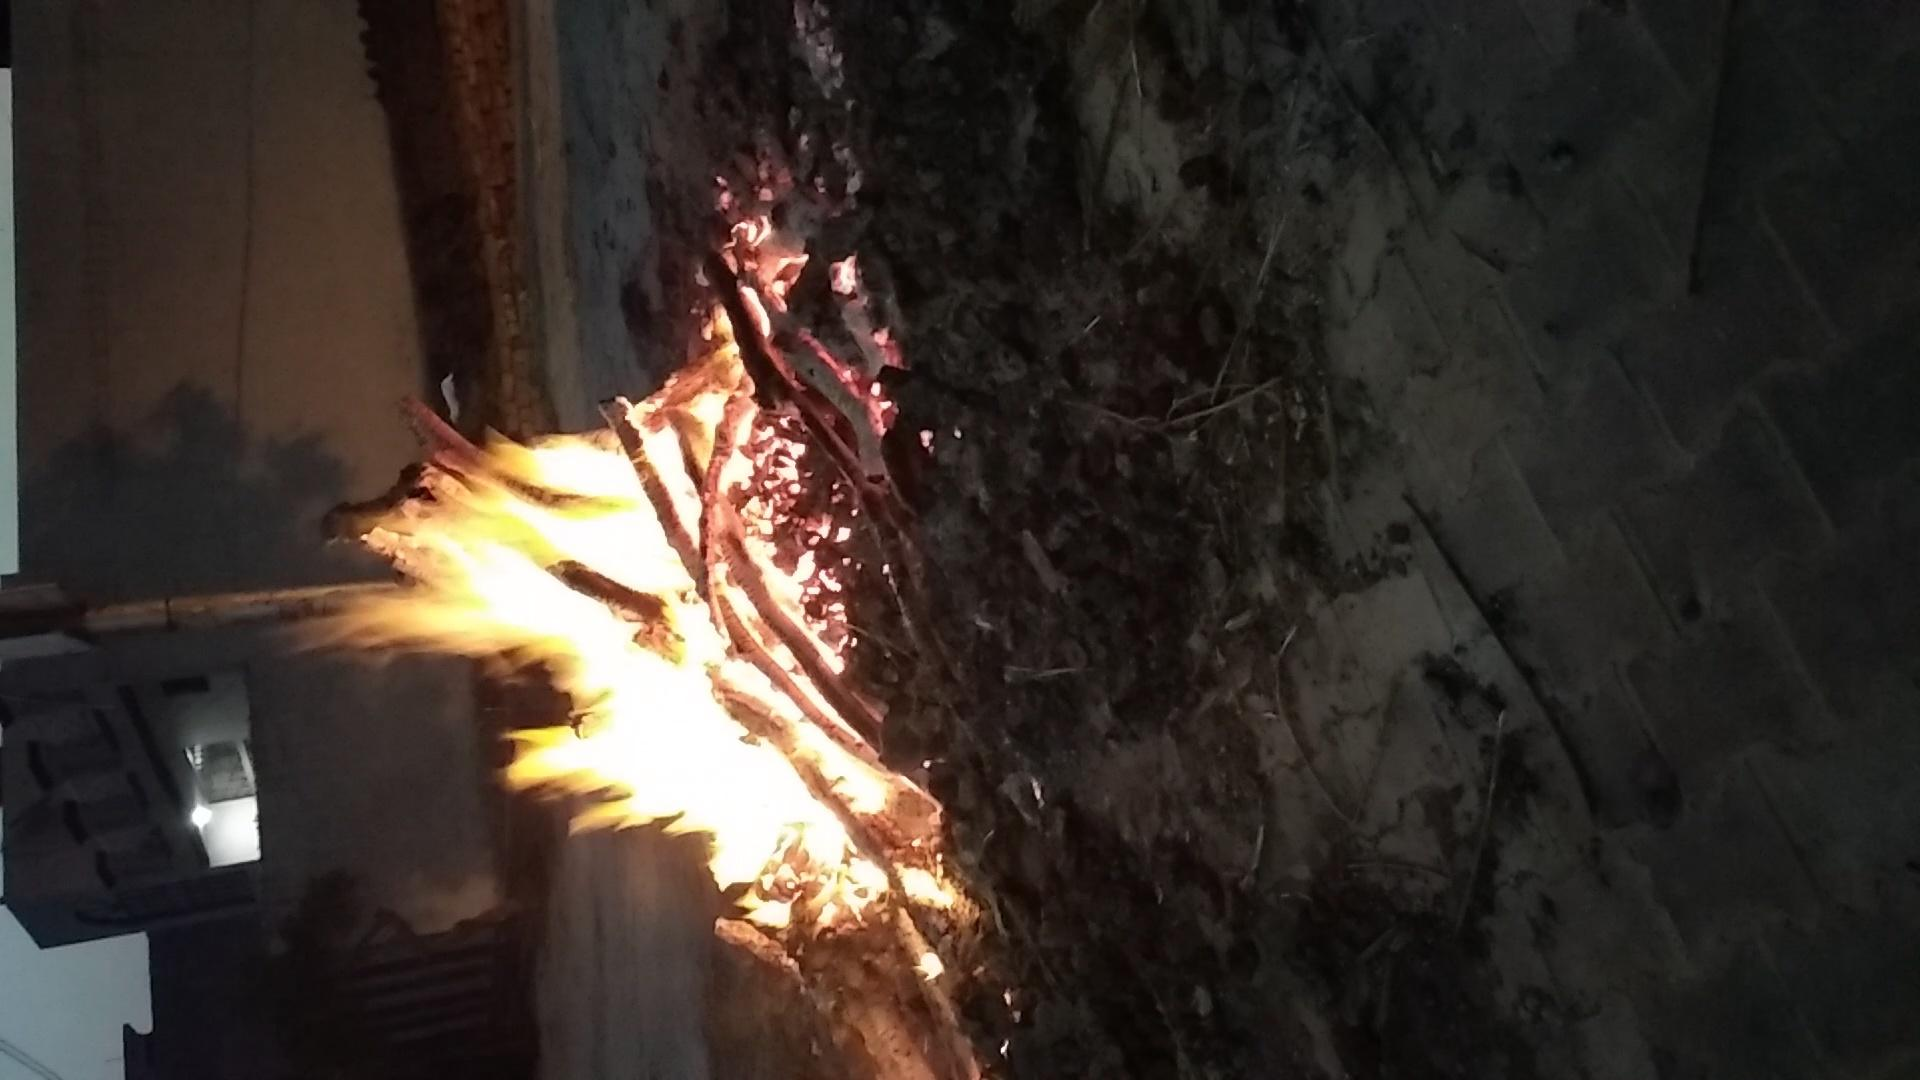fire: (310, 310, 997, 975)
